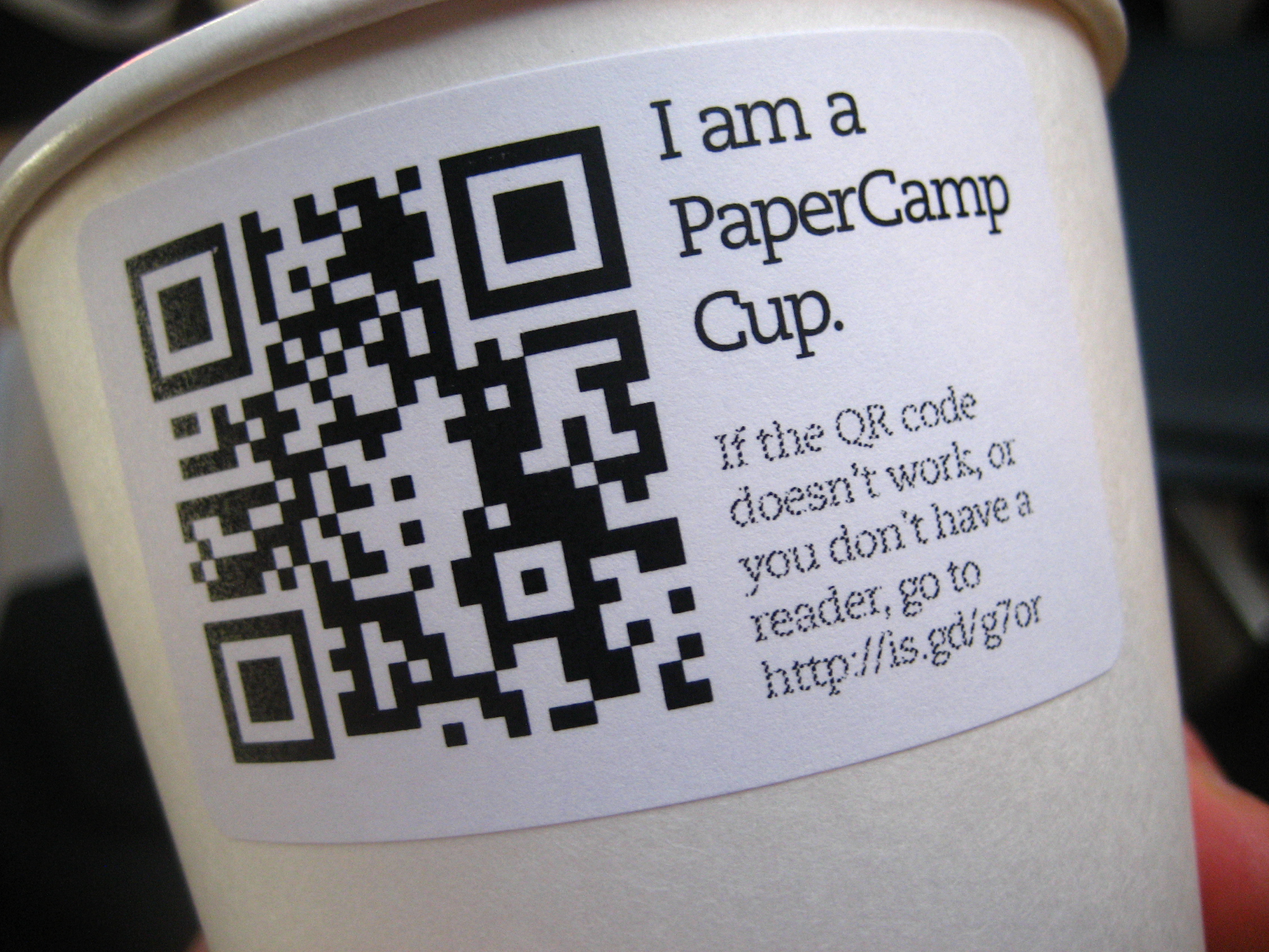QR-CODE: (123, 125, 714, 764)
